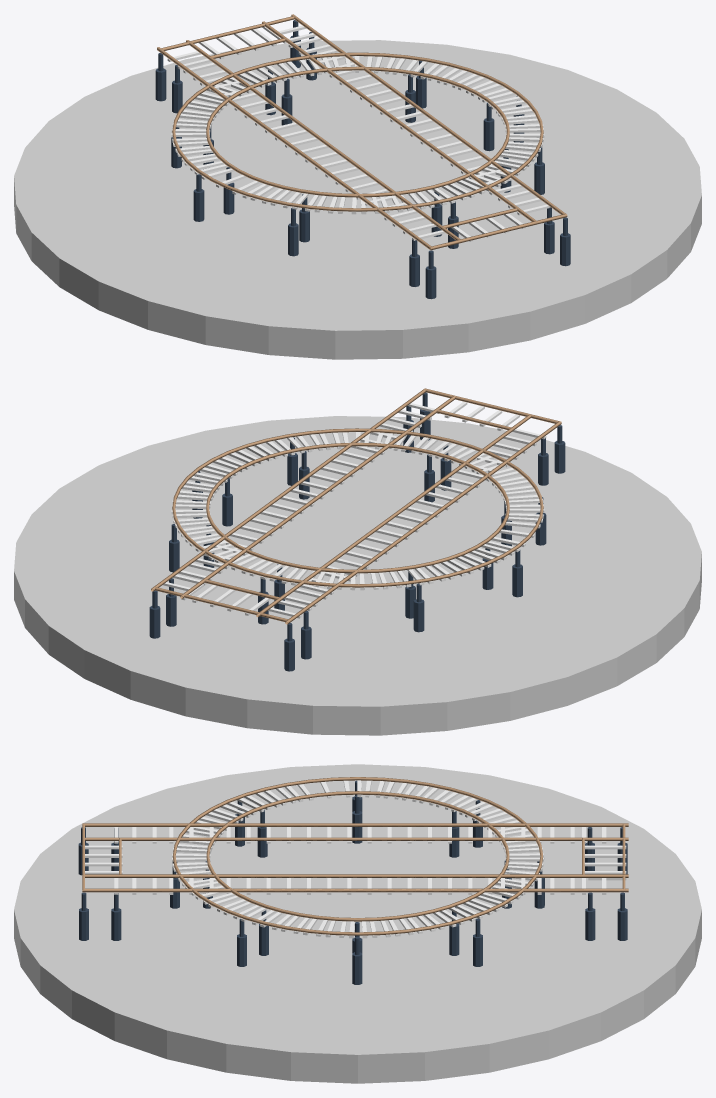
The model's file is RollerCoaster_017.fbx.
3 views of the same model, one above another, from view 1: azimuth 30°, elevation 25°; view 2: azimuth 150°, elevation 25°; view 3: azimuth 270°, elevation 25° (orthographic).
Visible parts, largest first — view 1: Cylinder.002, Path.084, RailStep.080, Columns.042, Path.081; view 2: Cylinder.002, Path.084, RailStep.080, Columns.042, Path.081; view 3: Cylinder.002, Path.084, RailStep.080, Columns.042, Path.081.
Boxes of the visible parts, bbox=[...] form: Cylinder.002: bbox=[14, 40, 701, 359]; Path.084: bbox=[157, 14, 567, 250]; RailStep.080: bbox=[171, 56, 544, 214]; Columns.042: bbox=[155, 20, 570, 299]; Path.081: bbox=[172, 52, 543, 211]; Cylinder.002: bbox=[14, 416, 701, 735]; Path.084: bbox=[151, 388, 561, 624]; RailStep.080: bbox=[171, 432, 544, 590]; Columns.042: bbox=[149, 392, 565, 671]; Path.081: bbox=[172, 428, 543, 587]; Cylinder.002: bbox=[14, 764, 701, 1083]; Path.084: bbox=[82, 823, 628, 894]; RailStep.080: bbox=[172, 780, 544, 938]; Columns.042: bbox=[78, 780, 627, 984]; Path.081: bbox=[173, 777, 542, 935].
Size of the model in its own units: 4326 by 578 by 4326.
